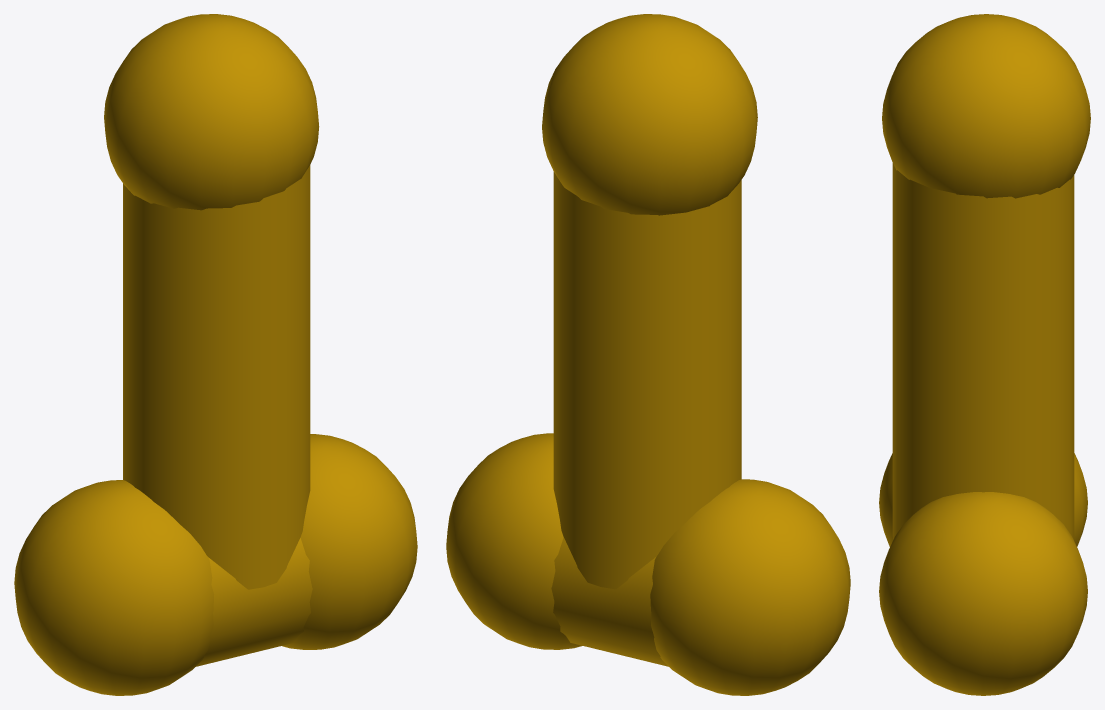
Rendered from dat diick.fbx.
3 renders of one model, left to right at view 1: azimuth 30°, elevation 25°; view 2: azimuth 150°, elevation 25°; view 3: azimuth 270°, elevation 25°, orthographic. The views are drawn at different scales.
Visible parts, largest first — view 1: pCylinder2, pSphere2, pasted__pSphere1, pSphere1, pCylinder1; view 2: pCylinder2, pSphere2, pasted__pSphere1, pSphere1, pCylinder1; view 3: pCylinder2, pSphere1, pSphere2, pasted__pSphere1.
Boxes of the visible parts, x1=… form: pCylinder2: x1=123, y1=165, x2=310, y2=589; pSphere2: x1=104, y1=14, x2=319, y2=210; pasted__pSphere1: x1=14, y1=480, x2=214, y2=695; pSphere1: x1=282, y1=434, x2=417, y2=649; pCylinder1: x1=196, y1=538, x2=312, y2=666; pCylinder2: x1=553, y1=172, x2=741, y2=589; pSphere2: x1=542, y1=14, x2=757, y2=215; pasted__pSphere1: x1=650, y1=479, x2=850, y2=695; pSphere1: x1=446, y1=433, x2=582, y2=649; pCylinder1: x1=551, y1=537, x2=668, y2=666; pCylinder2: x1=892, y1=163, x2=1074, y2=538; pSphere1: x1=879, y1=492, x2=1087, y2=695; pSphere2: x1=882, y1=14, x2=1090, y2=198; pasted__pSphere1: x1=879, y1=453, x2=1087, y2=546.
Size of the model in its own units: 4.01 by 6.51 by 2.03.
